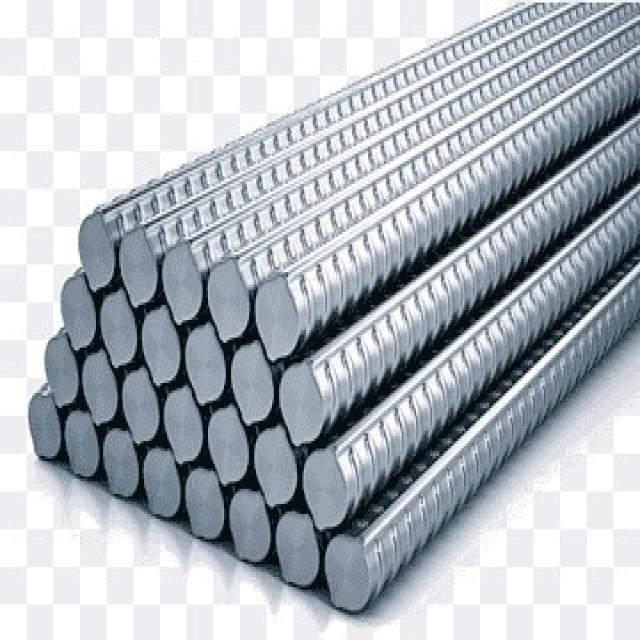Rebar: (257, 274, 307, 357), (158, 241, 207, 320), (249, 429, 299, 506), (229, 345, 274, 424), (182, 466, 227, 545), (183, 328, 230, 403), (210, 258, 254, 337), (164, 392, 210, 466), (327, 535, 368, 615), (282, 372, 329, 441), (210, 413, 258, 480), (115, 233, 159, 305), (231, 487, 272, 563), (58, 279, 101, 351), (304, 447, 348, 515), (144, 306, 184, 380), (278, 516, 319, 586), (128, 373, 170, 441), (85, 353, 127, 421), (101, 296, 142, 365), (76, 216, 116, 284), (144, 450, 184, 518), (29, 391, 68, 459), (103, 430, 141, 492), (42, 339, 79, 402), (69, 408, 99, 474)
